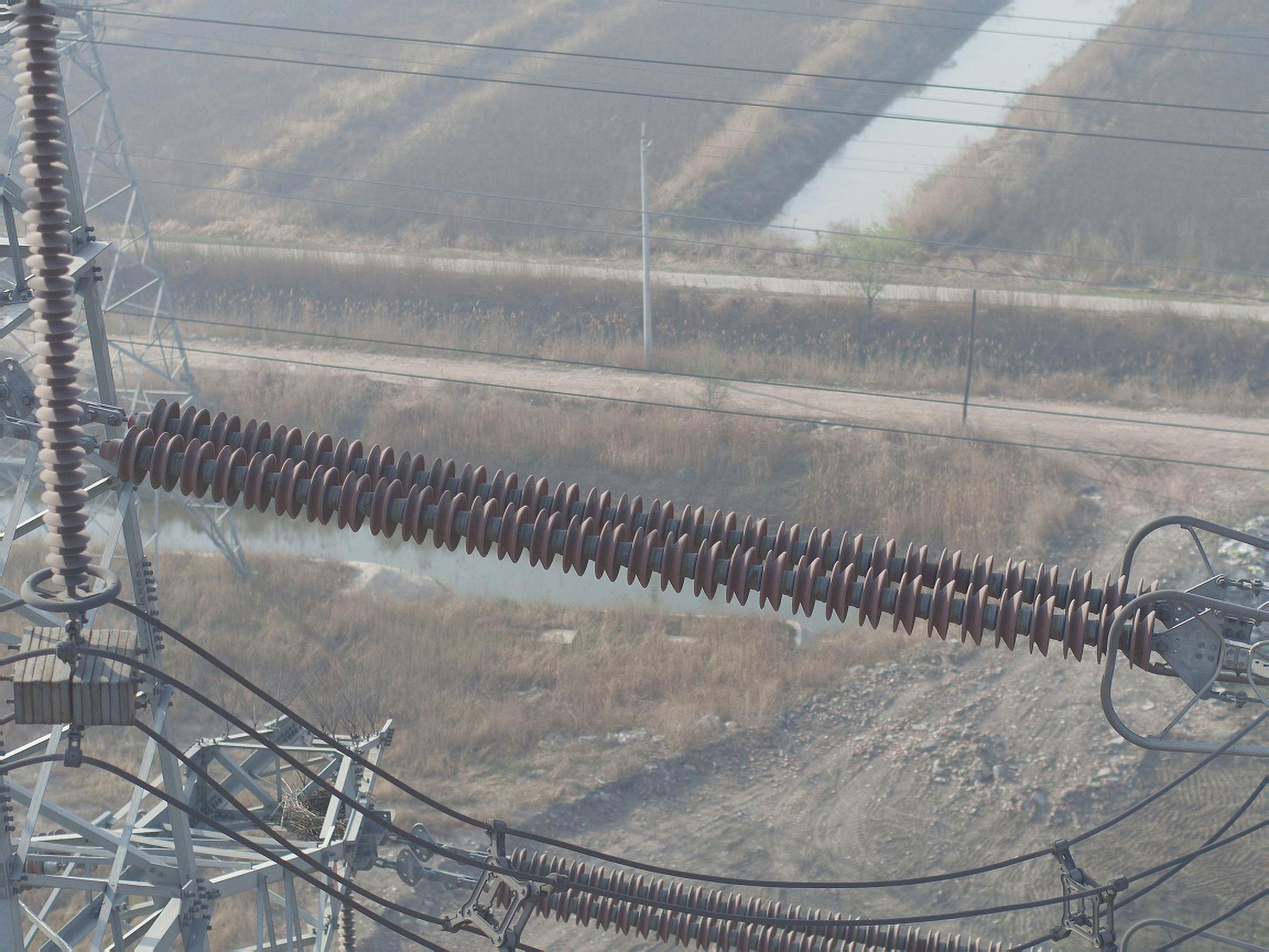insulator: (111, 396, 1167, 673), (503, 841, 1061, 952), (2, 1, 99, 592), (334, 872, 362, 952)
